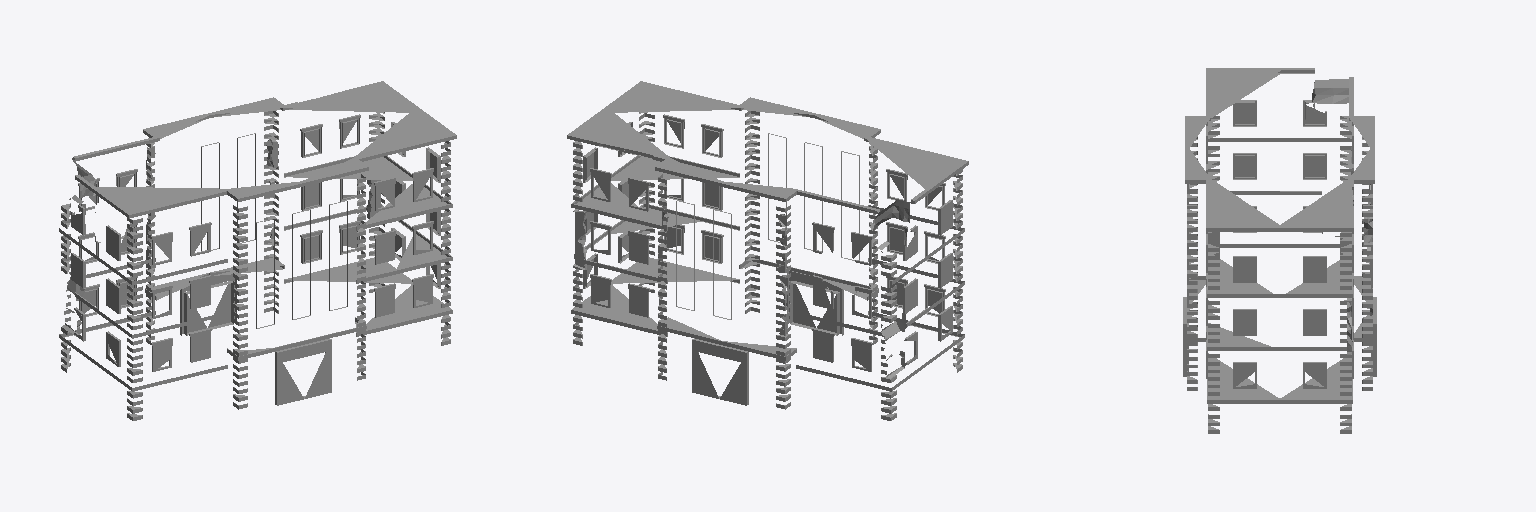
The model's file is kraje.obj.
3 renders of one model, left to right at view 1: azimuth 30°, elevation 25°; view 2: azimuth 150°, elevation 25°; view 3: azimuth 270°, elevation 25°, orthographic.
Visible parts, largest first — view 1: building4_kraje_Cube.108; view 2: building4_kraje_Cube.108; view 3: building4_kraje_Cube.108.
Part boxes in pixels (x1,y1,x2,y2): building4_kraje_Cube.108: (59,81,456,420); building4_kraje_Cube.108: (567,81,968,420); building4_kraje_Cube.108: (1183,68,1376,433).
Size of the model in its own units: 21.24 by 13.35 by 10.88.